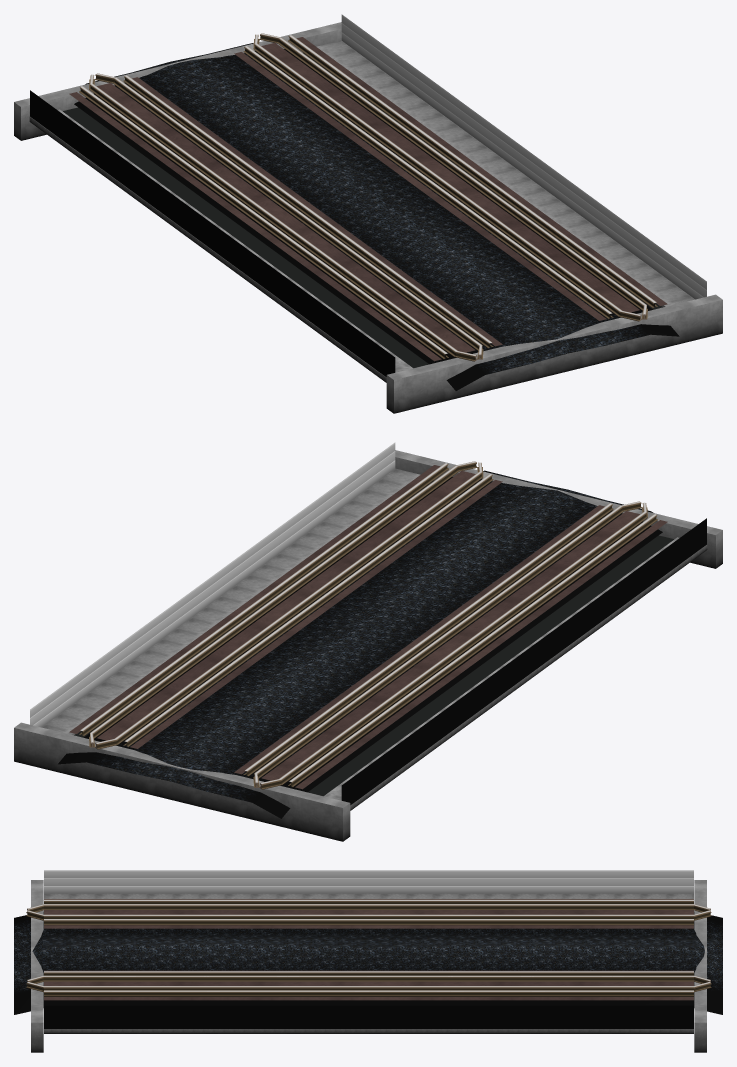
File: SIN_2RAIL_BRIDGEMIMAN.glb
3 renders of one model, top to bottom at view 1: azimuth 30°, elevation 25°; view 2: azimuth 150°, elevation 25°; view 3: azimuth 270°, elevation 25°, orthographic. The views are drawn at different scales.
Visible parts, largest first — view 1: obj14, J08, J00; view 2: obj14, J00, J08; view 3: obj14, J08, J00.
Boxes of the visible parts, left/top/right/bottom form: obj14: left=29, top=14, right=706, bottom=390; J08: left=386, top=294, right=722, bottom=413; J00: left=14, top=22, right=341, bottom=140; obj14: left=30, top=442, right=707, bottom=818; J00: left=14, top=722, right=350, bottom=841; J08: left=395, top=450, right=722, bottom=568; obj14: left=14, top=870, right=722, bottom=1033; J08: left=26, top=880, right=43, bottom=1052; J00: left=694, top=880, right=711, bottom=1052.
Bounding box in the file's own units: 26 × 3.68 × 54.53.
Materials: 12 (9 with a texture image).
